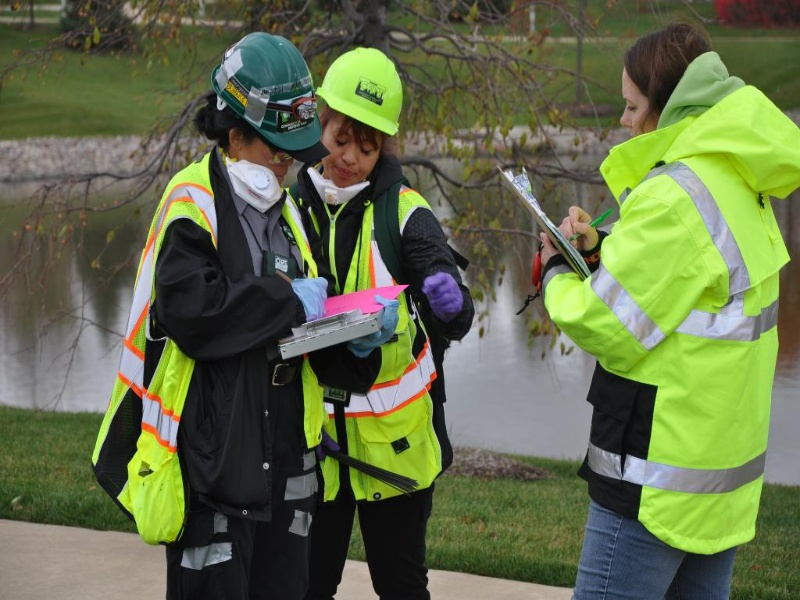helmet: (212, 30, 320, 151), (318, 43, 404, 132)
jacket: (586, 117, 780, 546), (298, 184, 449, 496), (119, 157, 214, 534)
